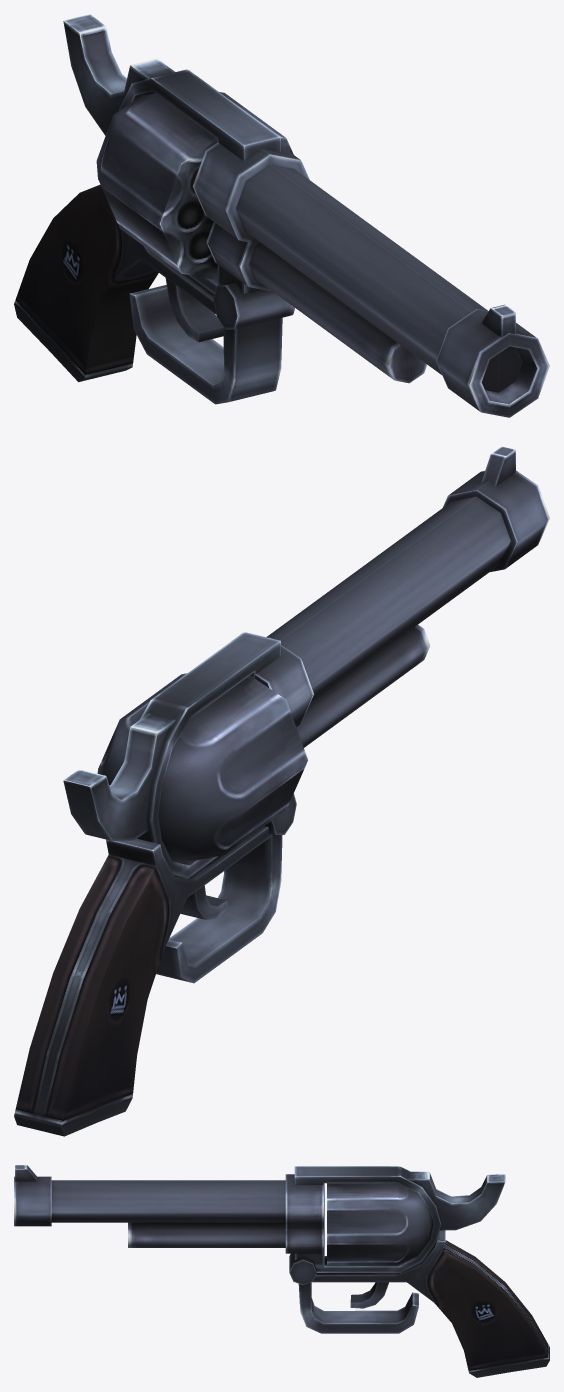
Rendered from W_G004_02_silver.FBX.
The picture shows the model from 3 angles, top to bottom: view 1: azimuth 30°, elevation 25°; view 2: azimuth 150°, elevation 25°; view 3: azimuth 270°, elevation 25°; orthographic projection. The views are drawn at different scales.
Visible parts, largest first — view 1: W_G004_02_silver; view 2: W_G004_02_silver; view 3: W_G004_02_silver.
Part boxes in pixels (<box>): W_G004_02_silver: <box>14,14,549,417</box>; W_G004_02_silver: <box>14,446,549,1136</box>; W_G004_02_silver: <box>14,1165,549,1377</box>.
Bounding box in the file's own units: 0.1745 × 0.404 × 0.9603.
Materials: 1 (1 with a texture image).
